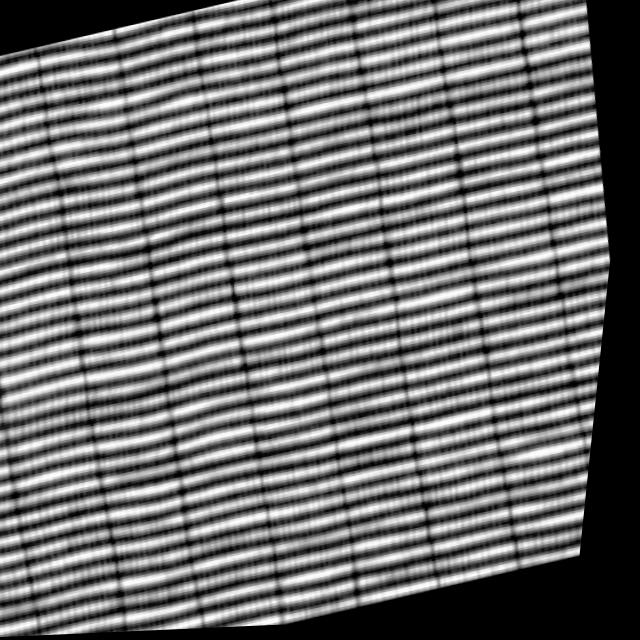Stitch: (0, 338, 40, 459)
